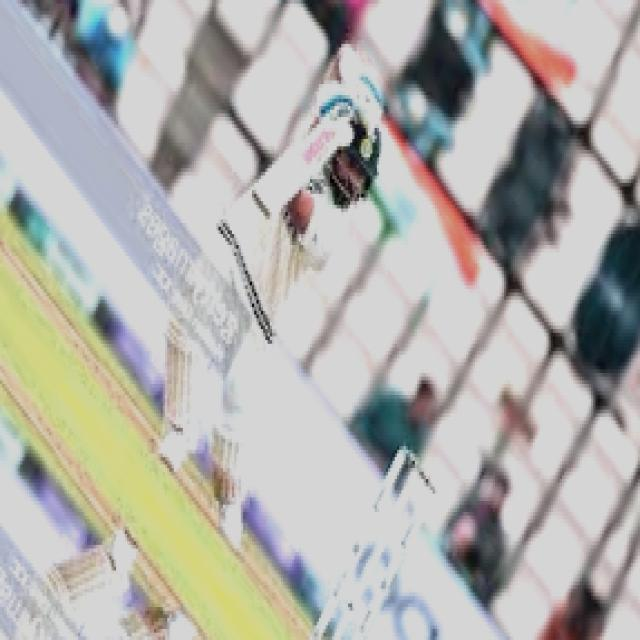bat: (209, 118, 347, 262)
toe: (219, 219, 236, 244)
